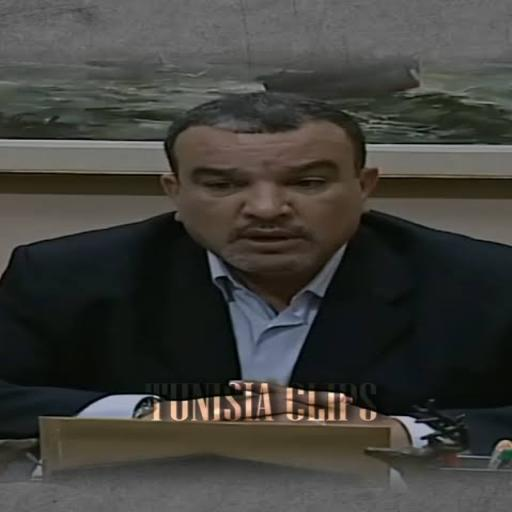slimane: (162, 93, 377, 276)
